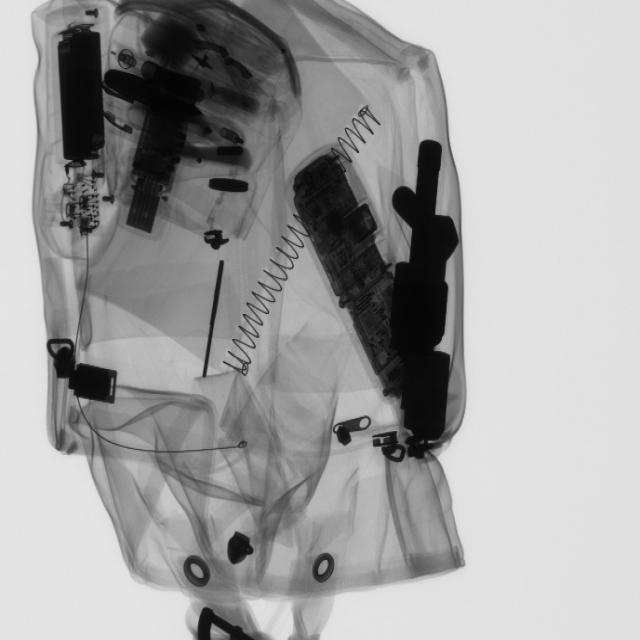GUN: (385, 132, 465, 460)
